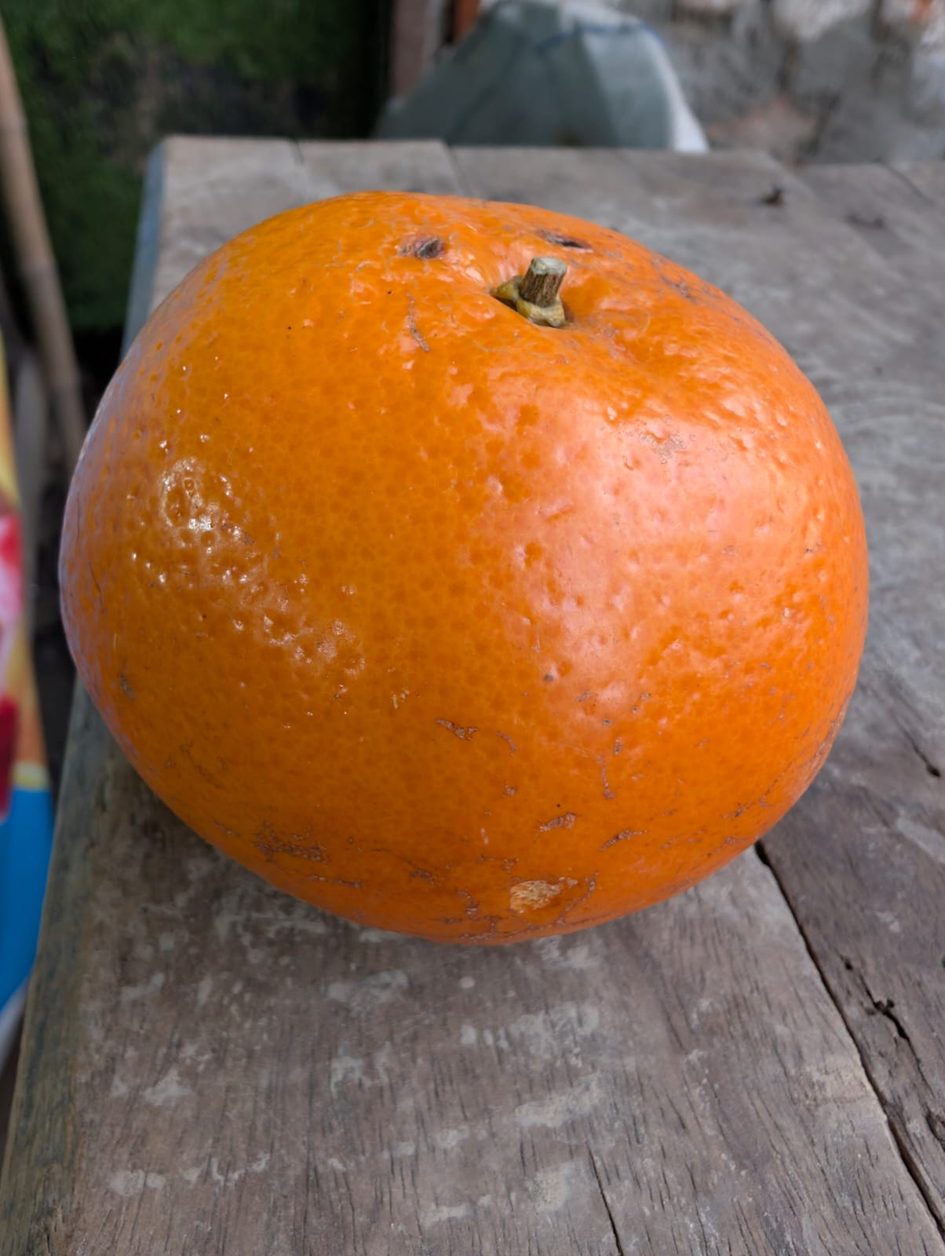orange: (27, 138, 831, 1223)
